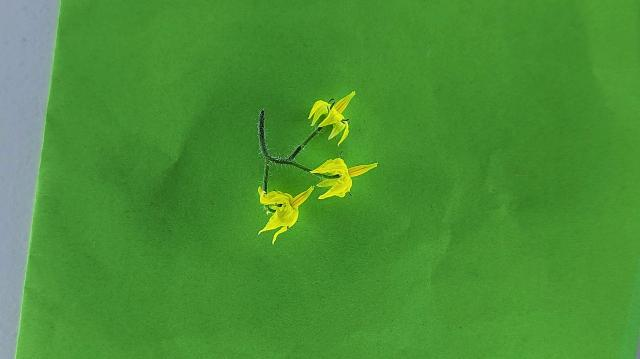Anthesis: (256, 182, 315, 245), (309, 155, 379, 201), (307, 90, 356, 147)
